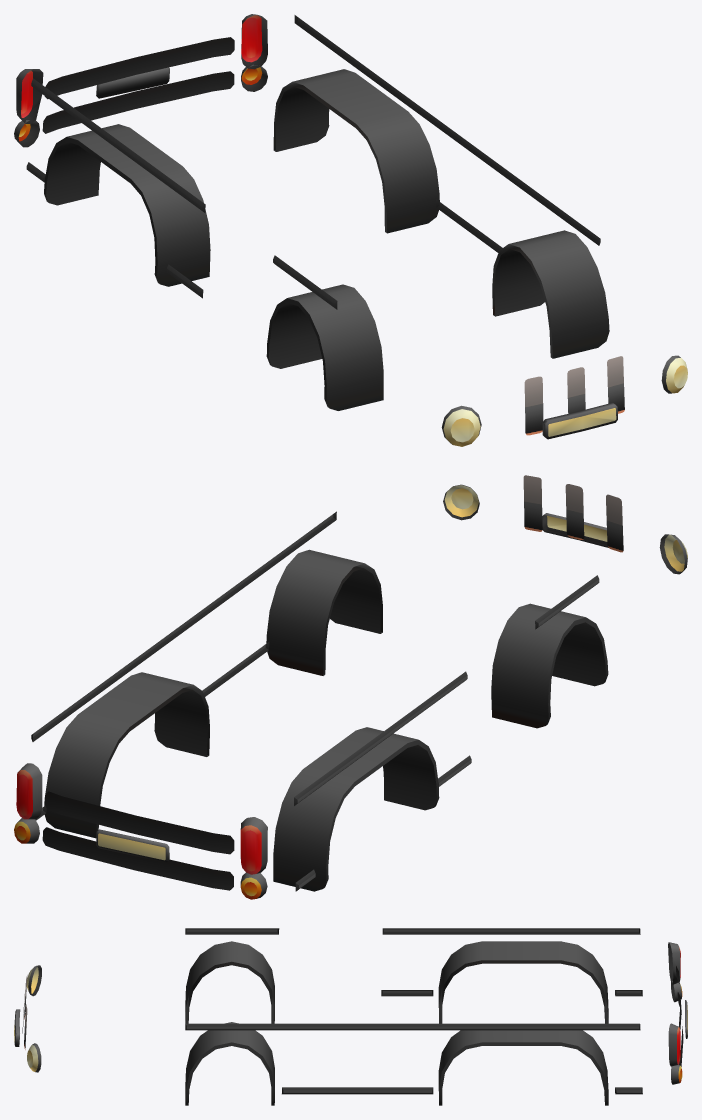
The model's file is Bus_additional_stuff.fbx.
3 views of the same model, one above another, from view 1: azimuth 30°, elevation 25°; view 2: azimuth 150°, elevation 25°; view 3: azimuth 270°, elevation 25° (orthographic). The views are drawn at different scales.
Parts seen in each view (by area): view 1: Bus_additional_stuff; view 2: Bus_additional_stuff; view 3: Bus_additional_stuff.
Part boxes in pixels (x1,y1,x2,y2): Bus_additional_stuff: (14, 14, 687, 446); Bus_additional_stuff: (14, 475, 687, 899); Bus_additional_stuff: (14, 928, 687, 1105).
Bounding box in the file's own units: 69.06 × 25.71 × 191.
